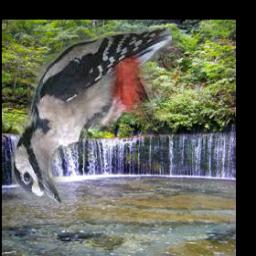Woodpecker: (13, 27, 173, 204)
